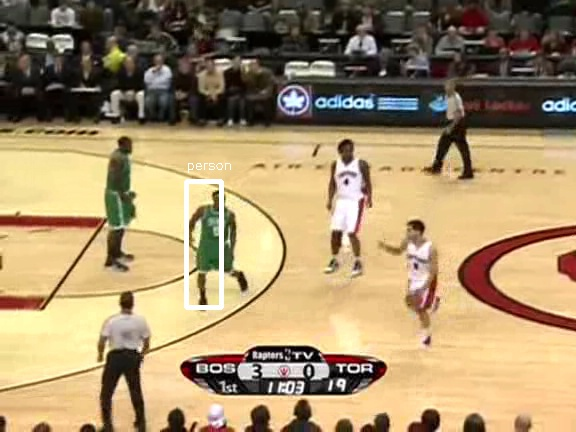person: (197, 204, 231, 285), (196, 204, 230, 285), (198, 204, 232, 285), (197, 203, 231, 284), (197, 205, 231, 286)
target_negative: (355, 161, 497, 426), (303, 76, 576, 199), (127, 303, 494, 338), (249, 341, 370, 404), (342, 169, 480, 189), (523, 9, 526, 199)
